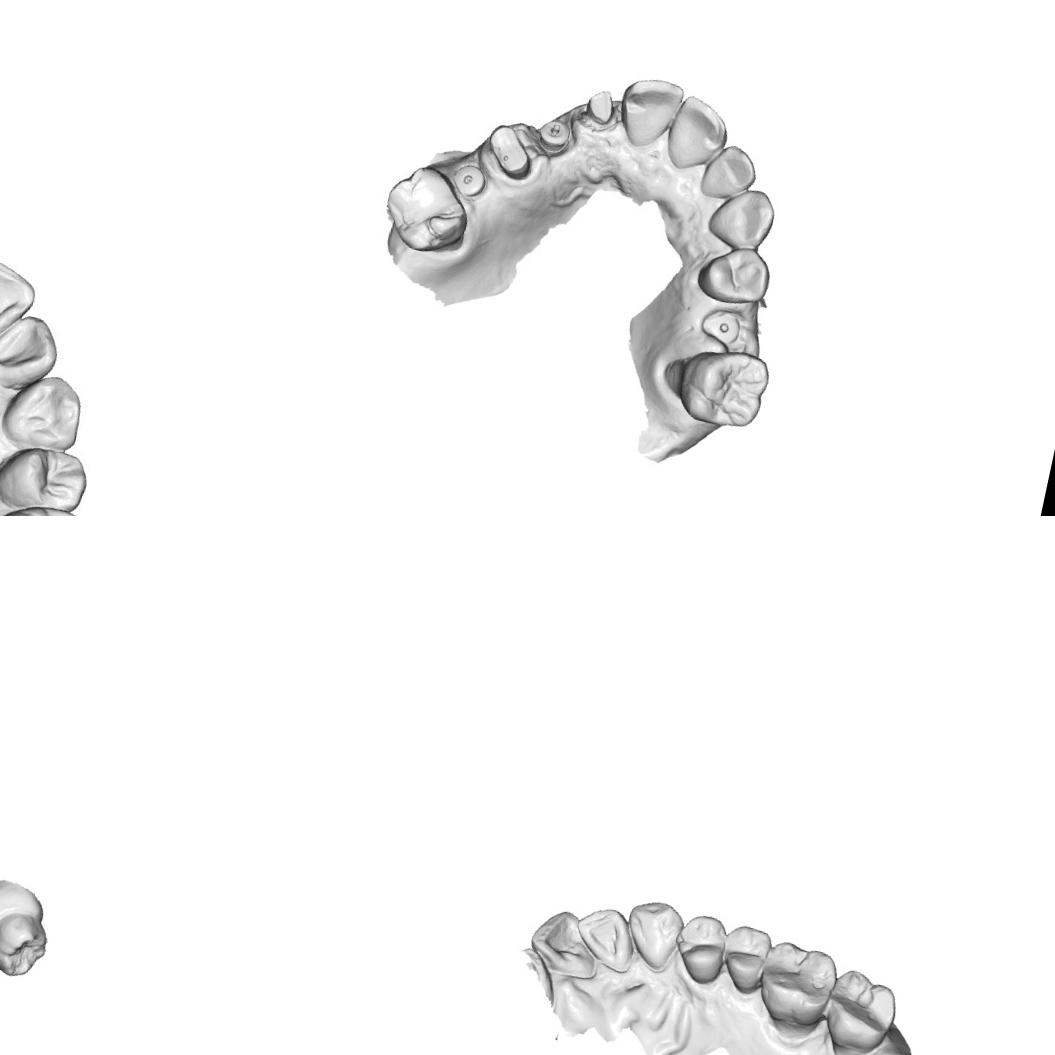canine: (1, 364, 93, 464), (702, 177, 782, 256), (618, 895, 688, 975)
crown: (478, 119, 541, 184), (579, 82, 621, 132)
implant: (702, 304, 748, 347), (448, 161, 490, 202)
implant_minus: (532, 115, 576, 161)
incisor: (524, 903, 608, 984), (610, 70, 687, 157), (660, 90, 735, 178), (567, 902, 642, 976), (0, 310, 62, 395), (697, 138, 763, 206), (0, 248, 36, 359)
molar: (668, 338, 776, 436), (374, 159, 478, 260), (752, 938, 840, 1033), (819, 966, 903, 1055), (0, 907, 55, 984)
premolar: (0, 437, 91, 516), (693, 238, 777, 312), (666, 909, 732, 987), (714, 920, 774, 996)
